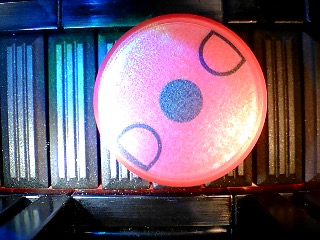BOHOMIPO2: (92, 13, 268, 188)
